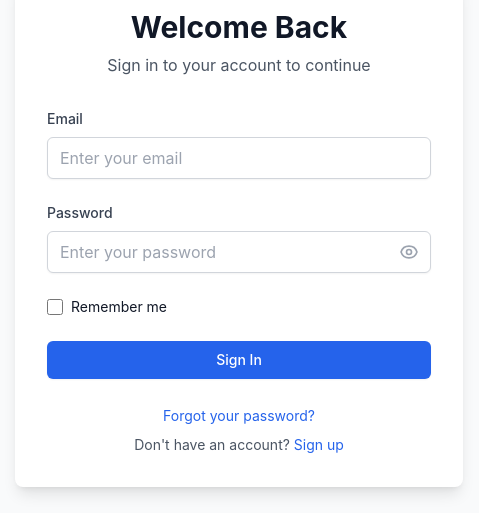
Test: Login Component › Login Submission › shows loading state during submission
Type "test@example.com" into the field labelled "Email".
click(239, 158); type("test@example.com")  # box [47,137,431,179]
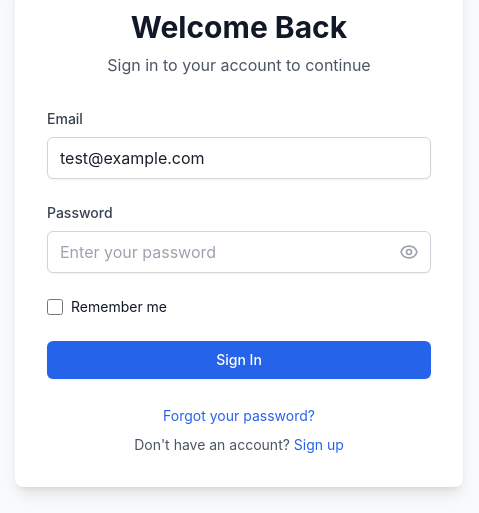
Type "password123" into the password field labelled "Password".
click(239, 252); type("password123")  # box [47,231,431,273]
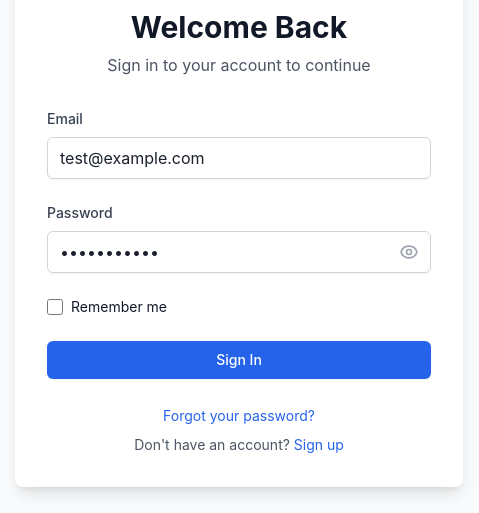
Click the button "Sign In".
click(239, 360)  # box [47,341,431,379]
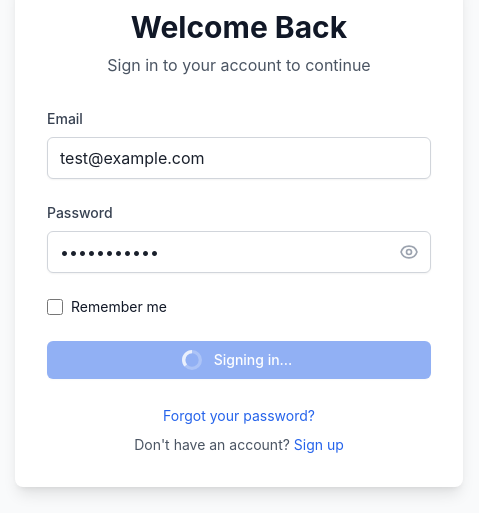
Check: the text "Signing in..." is shown, box [186,350,292,370]
Check: the button named "sign in" is disabled, box [47,341,431,379]
